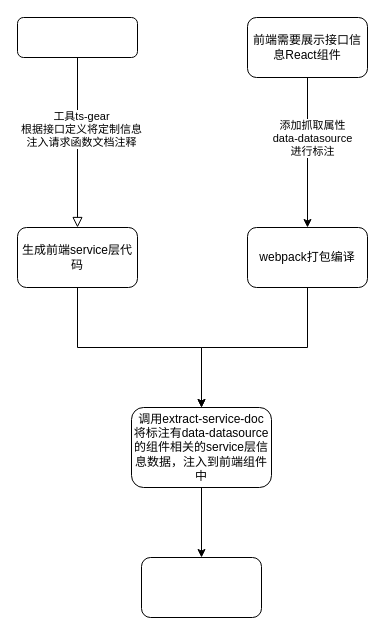
Some shapes in this 385 by 635 pixel diagram are drawn without their labels. Each missing label, with the centre of its shape:
"swagger 接口定义" goes at point 77,37.
"前端ui层定制组件 展示来自swagger层的数据信息" goes at point 201,587.
